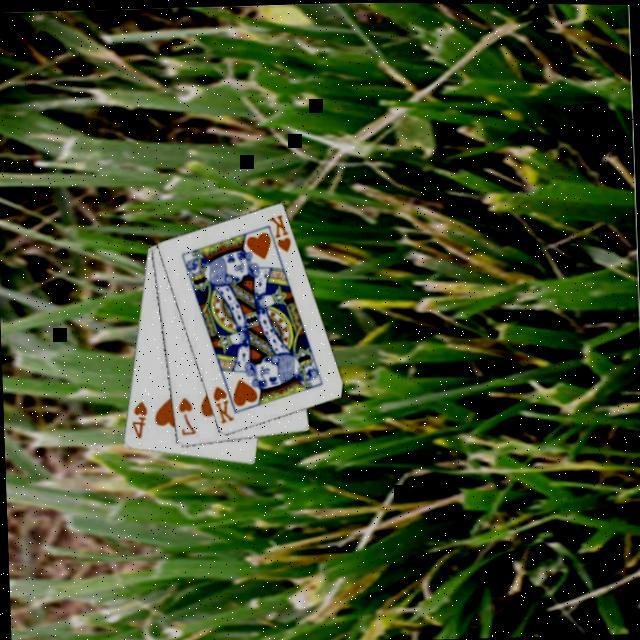4H: (126, 396, 150, 439)
7H: (173, 391, 197, 436)
KH: (208, 380, 236, 424), (264, 210, 292, 253)
